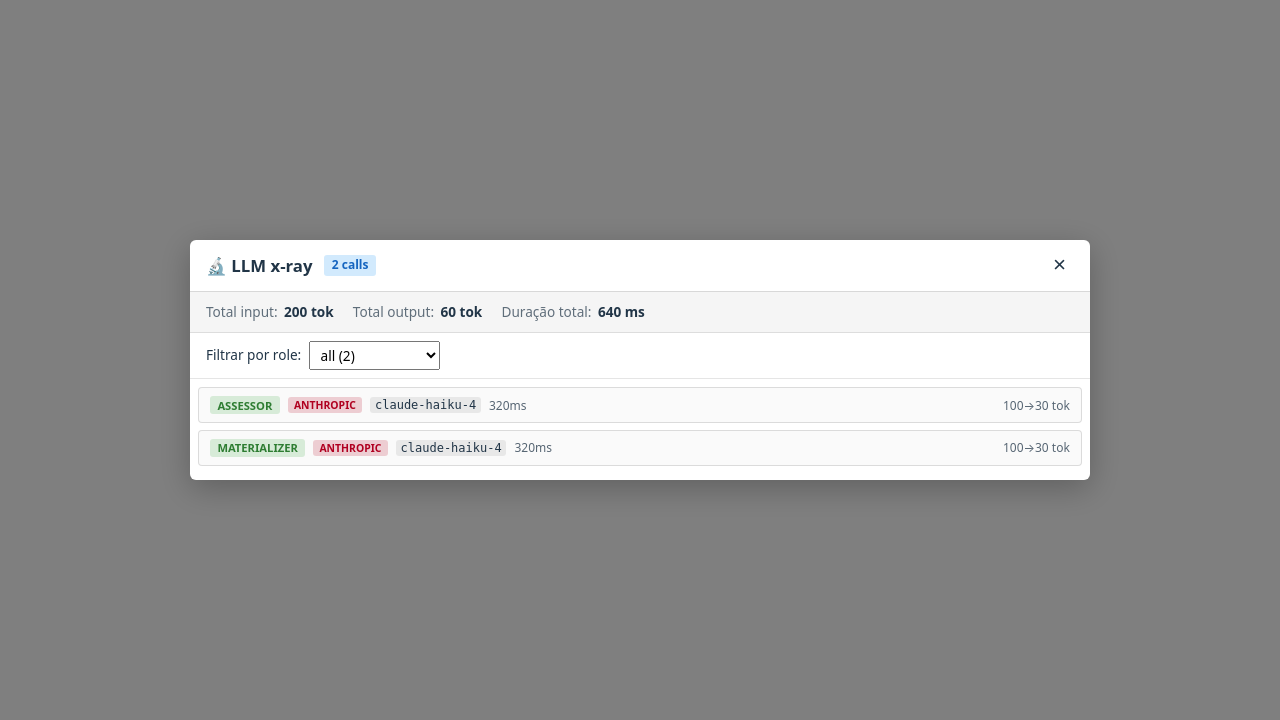
LlmXrayPanel.svelte — expand row › colapsar uma row não afeta outras
Step 1. Click the button with test id "llm-xray-call-toggle" that starts with "assessor" → click(245, 405), box [199,388,1081,422]
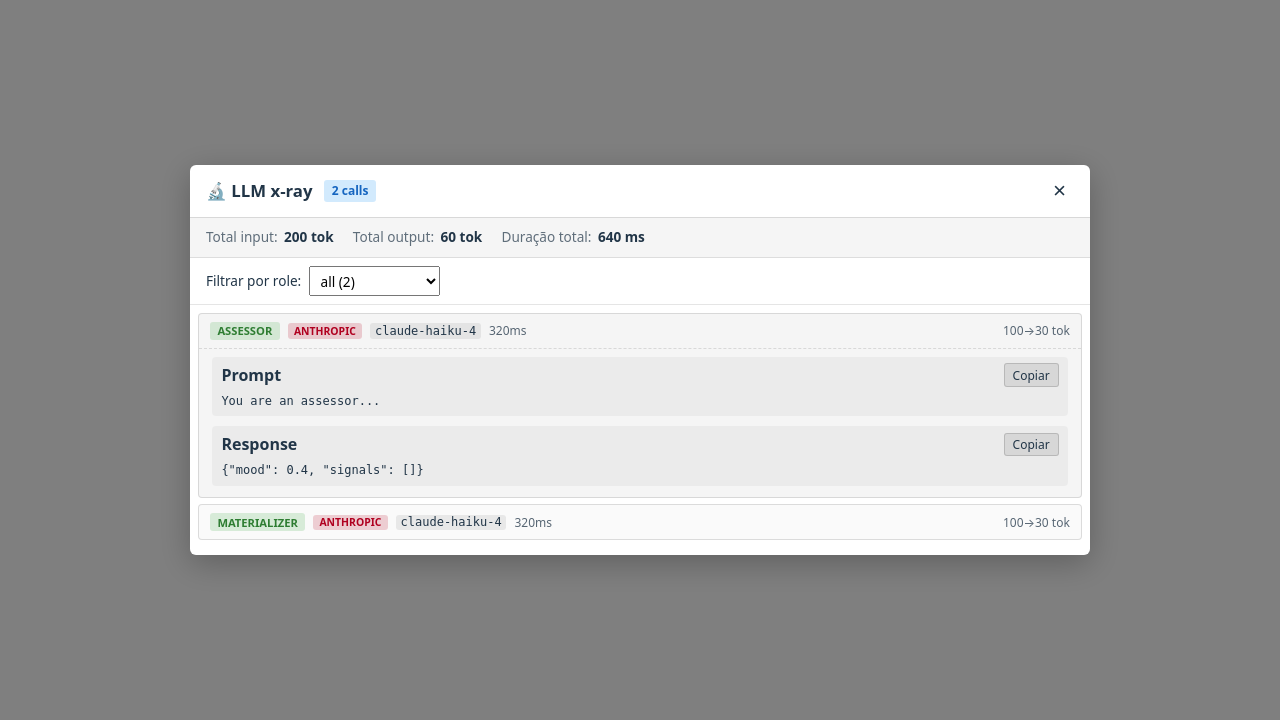
Step 2. Click the button with test id "llm-xray-call-toggle" that starts with "materializer" → click(258, 522), box [199,505,1081,539]
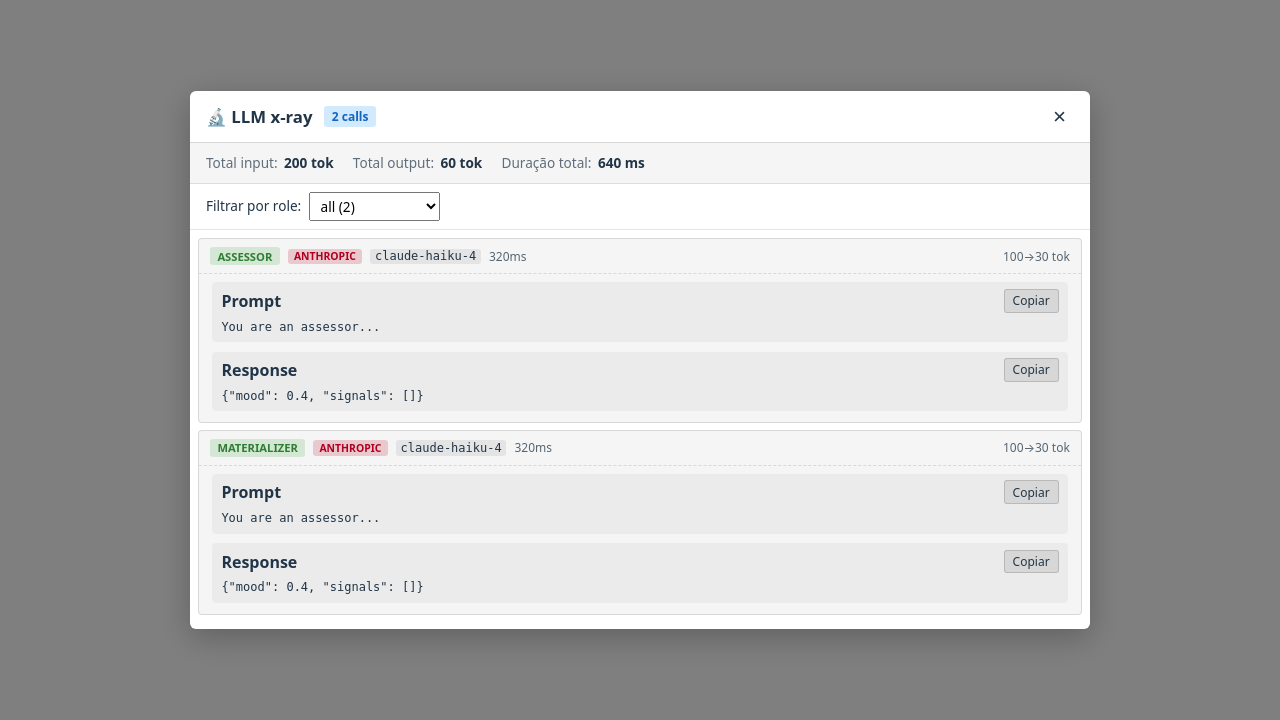
Now the number of elements with test id "llm-xray-call-body" is 2, box [199,273,1081,422]; [199,465,1081,614]
Step 3. Click the button with test id "llm-xray-call-toggle" that starts with "assessor" → click(245, 256), box [199,239,1081,273]
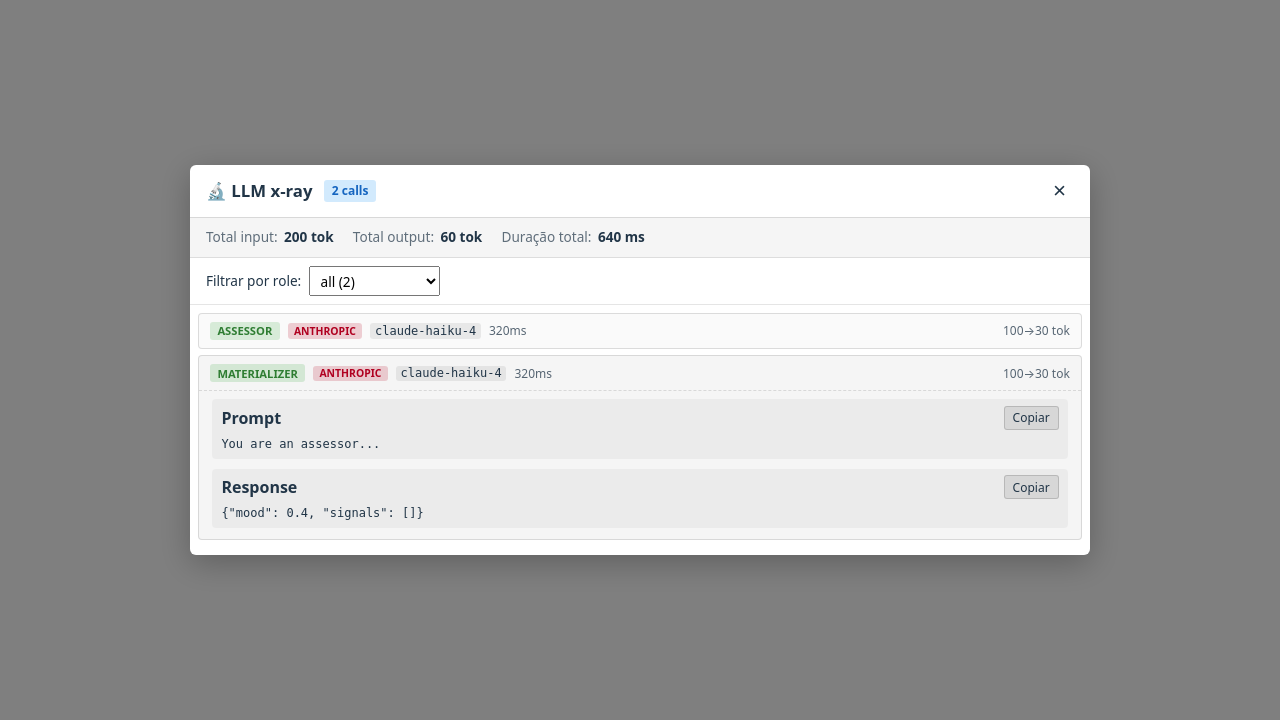
Now the number of elements with test id "llm-xray-call-body" is 1, box [199,390,1081,539]
